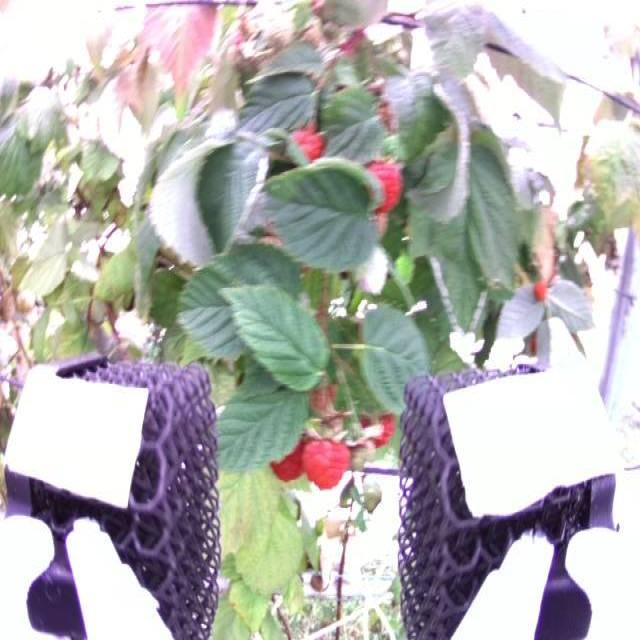Riped berries: (303, 437, 355, 494), (366, 151, 408, 213), (272, 425, 308, 481), (361, 406, 396, 452), (294, 119, 326, 163)
